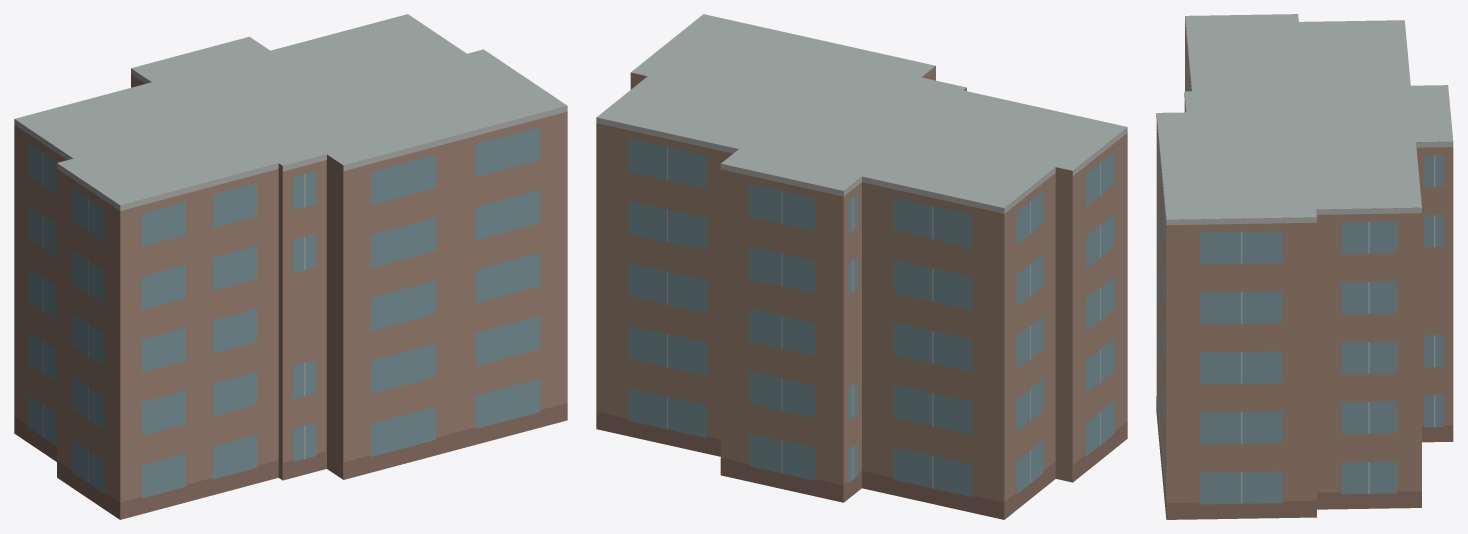
The model's file is survey-upis-32559792.glb.
The picture shows the model from 3 angles, left to right: view 1: azimuth 30°, elevation 25°; view 2: azimuth 150°, elevation 25°; view 3: azimuth 270°, elevation 25°; orthographic projection. The views are drawn at different scales.
Parts seen in each view (by area): view 1: survey-upis-32559792.tmp; view 2: survey-upis-32559792.tmp; view 3: survey-upis-32559792.tmp.
Part boxes in pixels (x1=…): survey-upis-32559792.tmp: x1=14, y1=14, x2=567, y2=519; survey-upis-32559792.tmp: x1=596, y1=14, x2=1127, y2=519; survey-upis-32559792.tmp: x1=1156, y1=14, x2=1453, y2=519.
Size of the model in its own units: 19.6 by 13.33 by 11.95.
